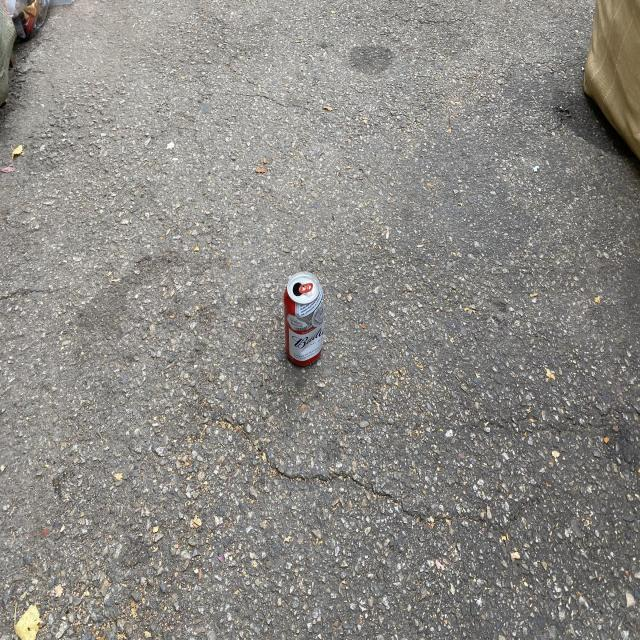can: (284, 272, 324, 366)
